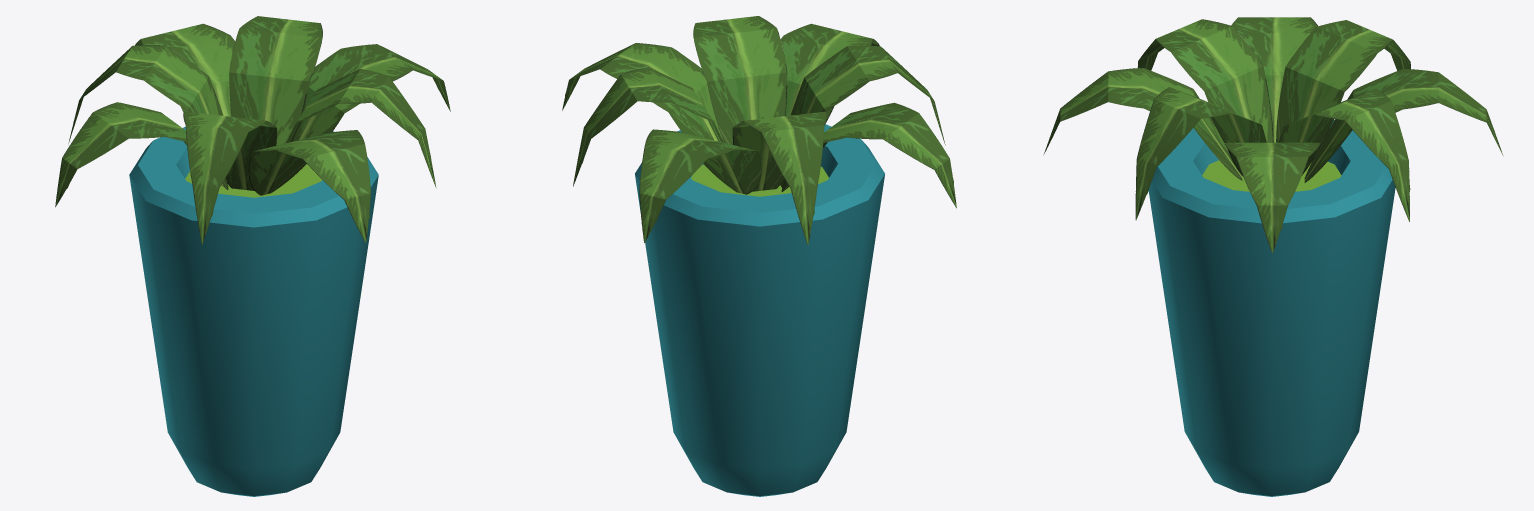
Rendered from Plant_3.obj.
3 views of the same model, side by side, from view 1: azimuth 30°, elevation 25°; view 2: azimuth 150°, elevation 25°; view 3: azimuth 270°, elevation 25° (orthographic).
Parts seen in each view (by area): view 1: Plant_3; view 2: Plant_3; view 3: Plant_3.
Part boxes in pixels (x1=…): Plant_3: x1=55, y1=16, x2=450, y2=496; Plant_3: x1=562, y1=16, x2=956, y2=496; Plant_3: x1=1043, y1=17, x2=1503, y2=496.
Size of the model in its own units: 0.6855 by 0.6332 by 0.6855.
